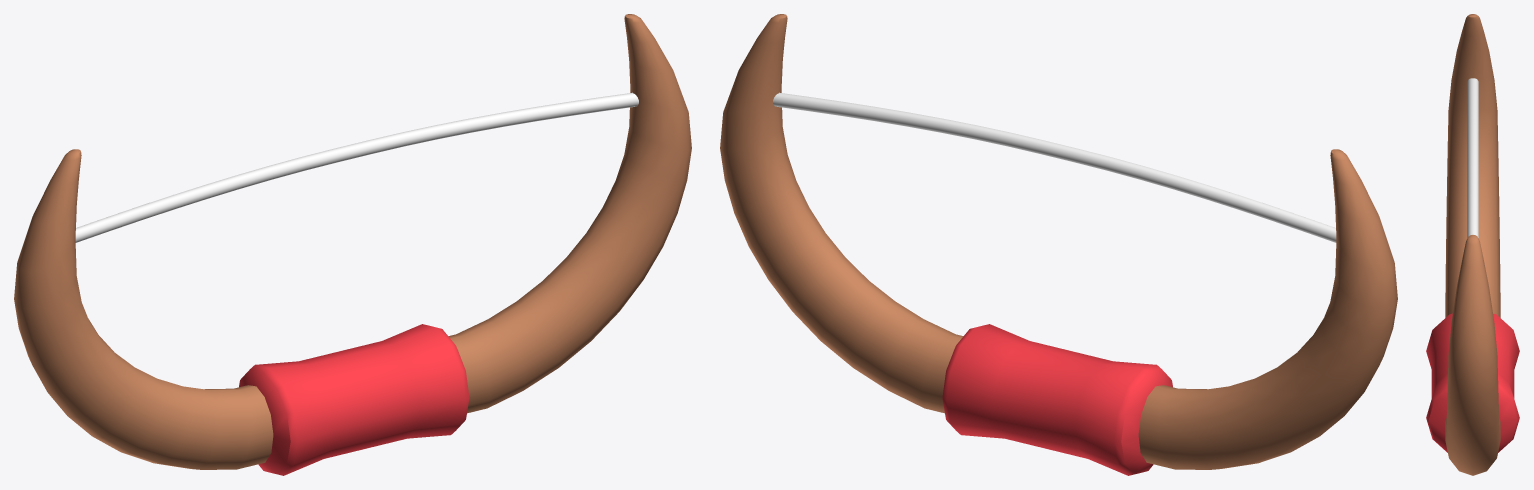
The model's file is bow_teamRed.glb.
The picture shows the model from 3 angles, left to right: view 1: azimuth 30°, elevation 25°; view 2: azimuth 150°, elevation 25°; view 3: azimuth 270°, elevation 25°; orthographic projection. The views are drawn at different scales.
Parts seen in each view (by area): view 1: bow_teamRed; view 2: bow_teamRed; view 3: bow_teamRed.
Part boxes in pixels (bbox=[...]): bow_teamRed: bbox=[14, 14, 691, 475]; bow_teamRed: bbox=[720, 14, 1397, 475]; bow_teamRed: bbox=[1426, 14, 1519, 475].
Bounding box in the file's own units: 0.54 × 0.2844 × 0.0801.
